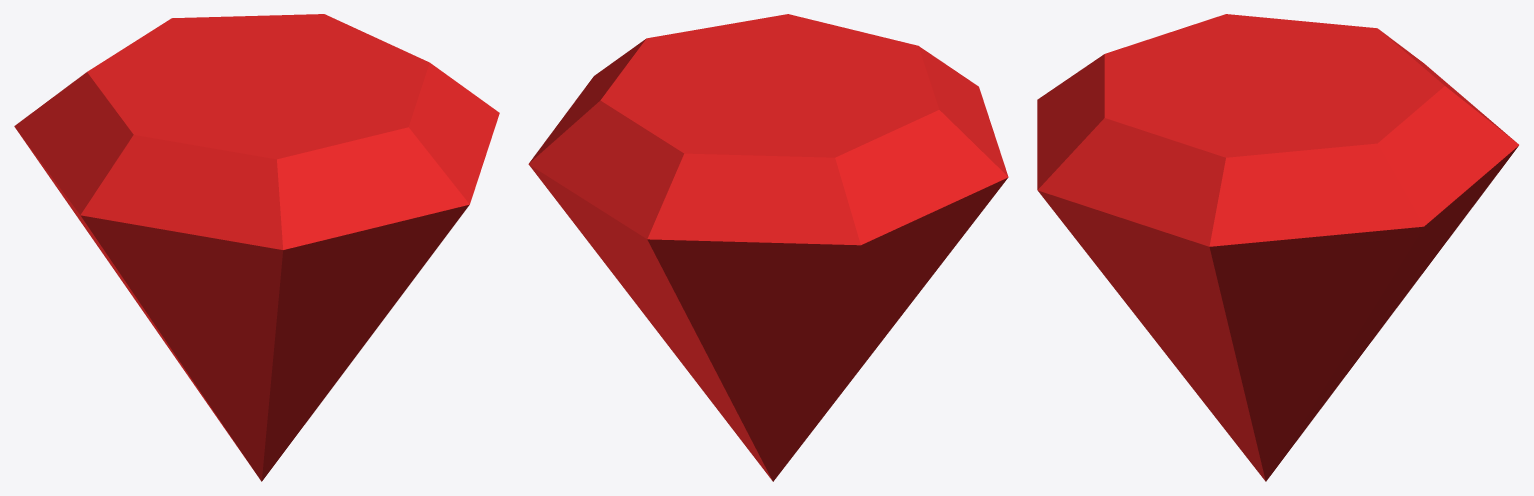
Rendered from cristal-1-1.fbx.
The picture shows the model from 3 angles, left to right: view 1: azimuth 30°, elevation 25°; view 2: azimuth 150°, elevation 25°; view 3: azimuth 270°, elevation 25°; orthographic projection.
Visible parts, largest first — view 1: Cylinder.815; view 2: Cylinder.815; view 3: Cylinder.815.
Boxes of the visible parts, <box> form: Cylinder.815: <box>14,14,499,481</box>; Cylinder.815: <box>528,14,1008,481</box>; Cylinder.815: <box>1037,14,1518,481</box>.
Bounding box in the file's own units: 20 × 18.13 × 20.
